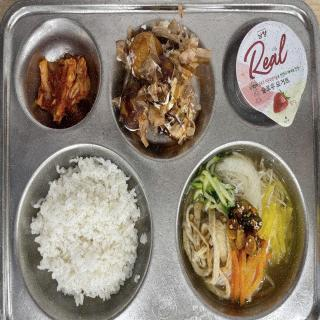Nasi: (32, 156, 143, 310)
